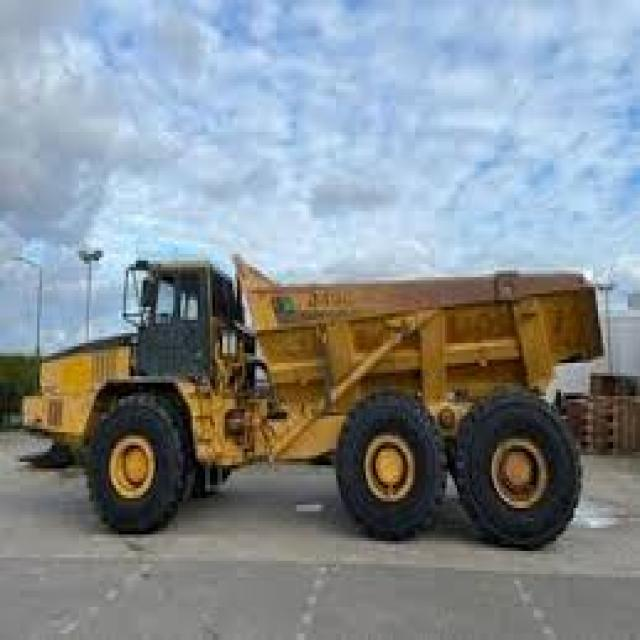dump_truck: (10, 221, 605, 548)
